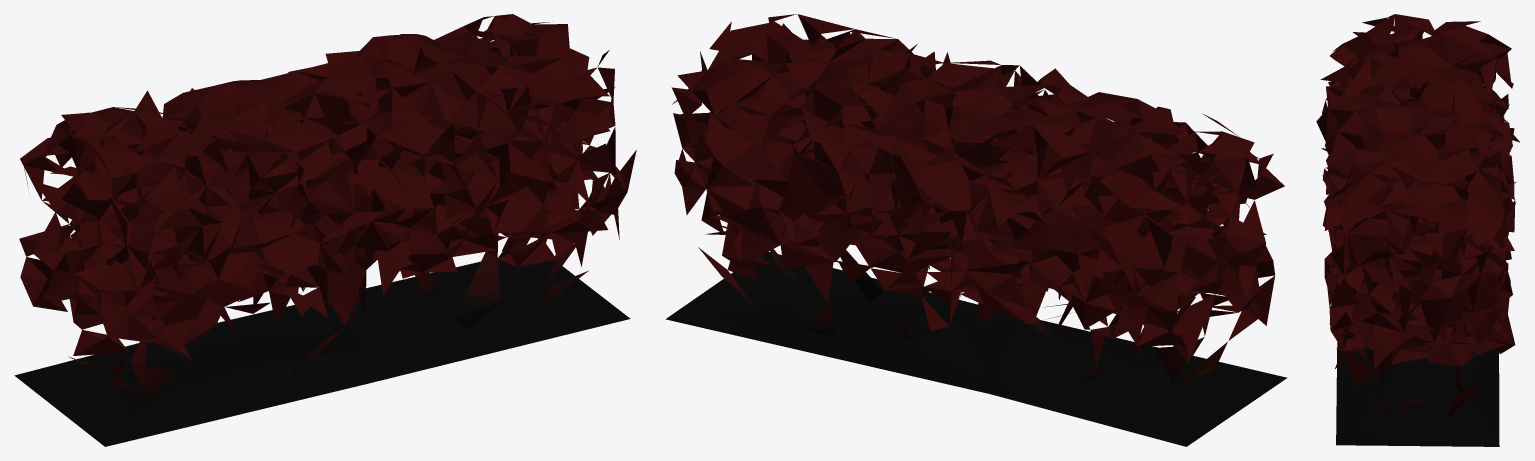
The model's file is prop_hedge.glb.
3 views of the same model, side by side, from view 1: azimuth 30°, elevation 25°; view 2: azimuth 150°, elevation 25°; view 3: azimuth 270°, elevation 25° (orthographic). The views are drawn at different scales.
Visible parts, largest first — view 1: output_unwrapped; view 2: output_unwrapped; view 3: output_unwrapped.
Boxes of the visible parts, x1=… form: output_unwrapped: x1=14, y1=14, x2=636, y2=446; output_unwrapped: x1=666, y1=14, x2=1287, y2=446; output_unwrapped: x1=1316, y1=14, x2=1519, y2=446.
Size of the model in its own units: 1.82 by 0.8385 by 0.6711.
Materials: 1 (1 with a texture image).
